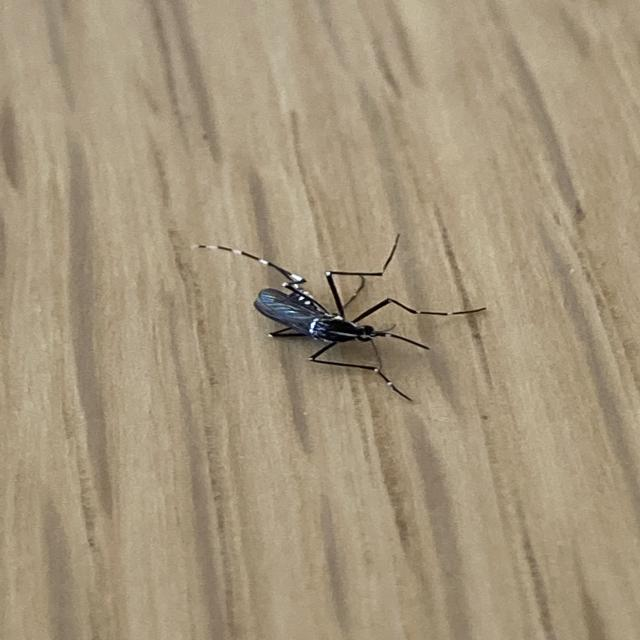albopictus: (184, 224, 491, 405)
